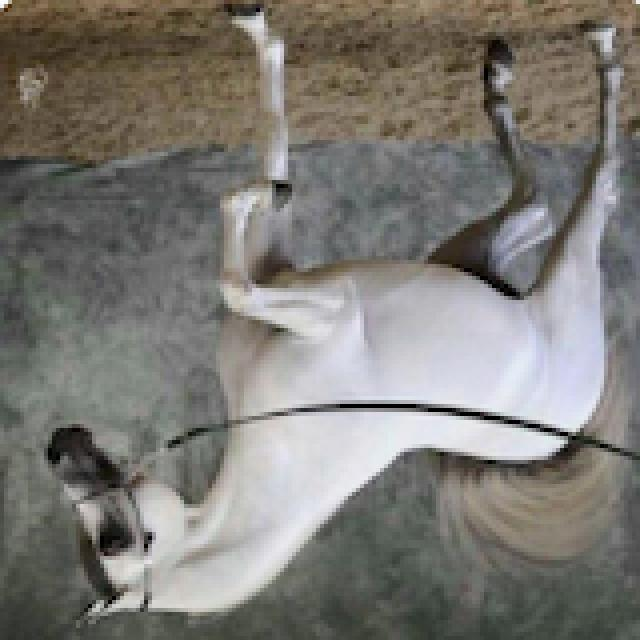Horse: (36, 4, 636, 632)
